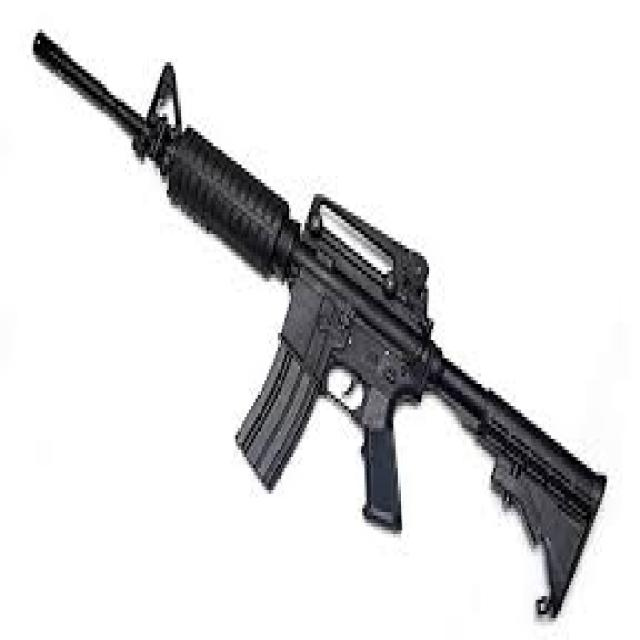rifle: (29, 16, 614, 638)
